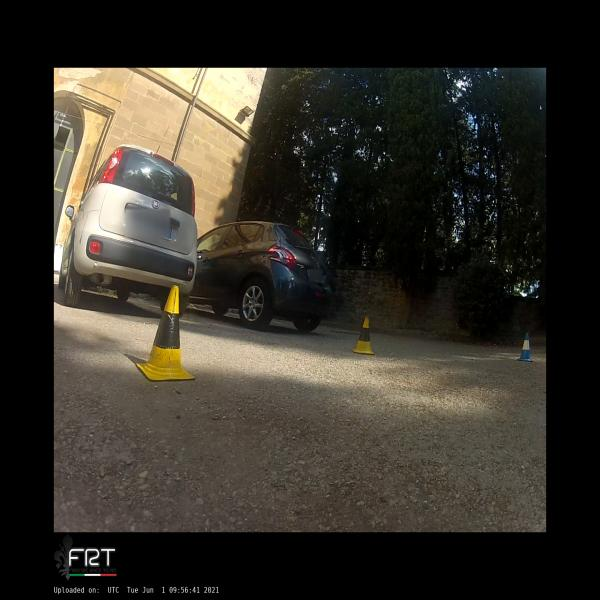blue_cone: (517, 333, 533, 362)
yellow_cone: (136, 284, 195, 382), (352, 316, 374, 355)
